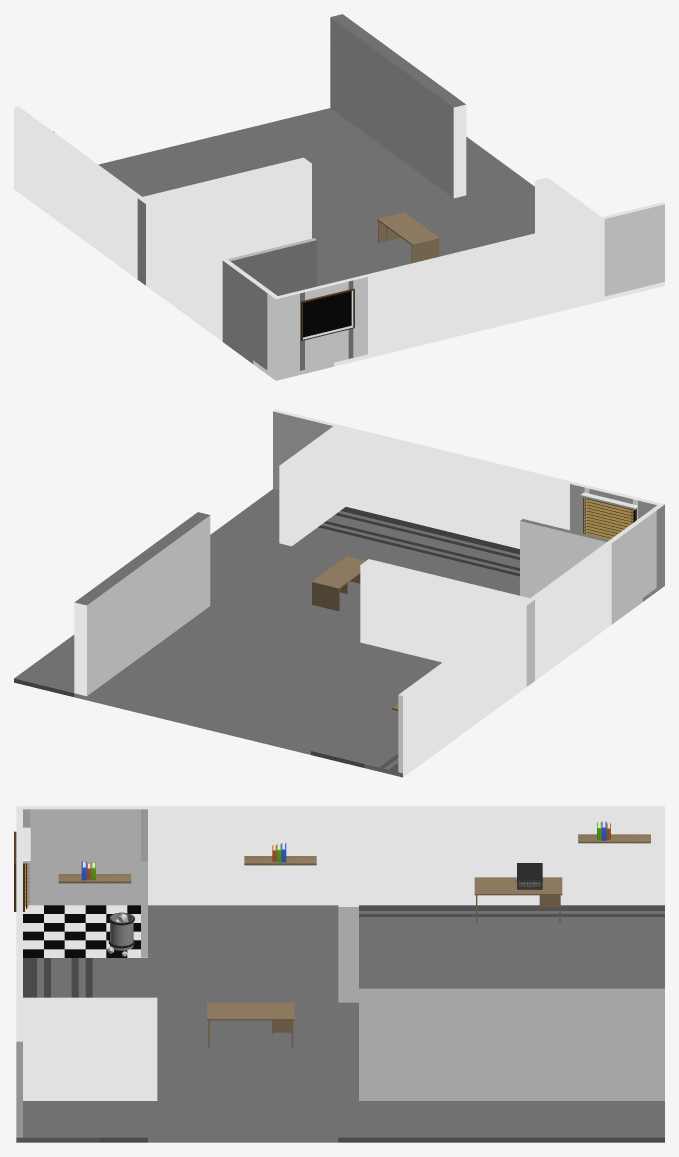
The model's file is room.fbx.
3 renders of one model, top to bottom at view 1: azimuth 30°, elevation 25°; view 2: azimuth 150°, elevation 25°; view 3: azimuth 270°, elevation 25°, orthographic. The views are drawn at different scales.
Visible parts, largest first — view 1: 立方体_4_4, 立方体_2_16_2, 立方体_3_5; view 2: 立方体_4_4, 立方体_2_16_2; view 3: 立方体_4_4, 立方体_2_16_2, 立方体_2_15_2, 立方体_4_3, 立方体_4_2, 立方体_4, 圆柱_1.
Part boxes in pixels (box(x1,y1,x2,y2)): 立方体_4_4: box(14, 14, 664, 380); 立方体_2_16_2: box(377, 212, 439, 263); 立方体_3_5: box(303, 291, 351, 337); 立方体_4_4: box(14, 409, 664, 777); 立方体_2_16_2: box(311, 556, 365, 611); 立方体_4_4: box(16, 806, 664, 1142); 立方体_2_16_2: box(207, 1002, 294, 1047); 立方体_2_15_2: box(474, 877, 562, 922); 立方体_4_3: box(58, 874, 131, 883); 立方体_4_2: box(244, 856, 316, 865); 立方体_4: box(578, 834, 650, 843); 圆柱_1: box(110, 913, 133, 950).
Size of the model in its own units: 802 by 187 by 938.
